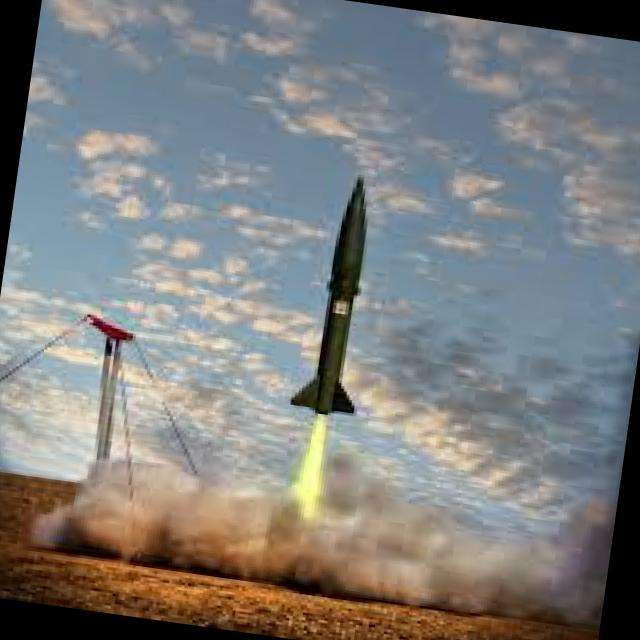rocket: (282, 170, 392, 512)
